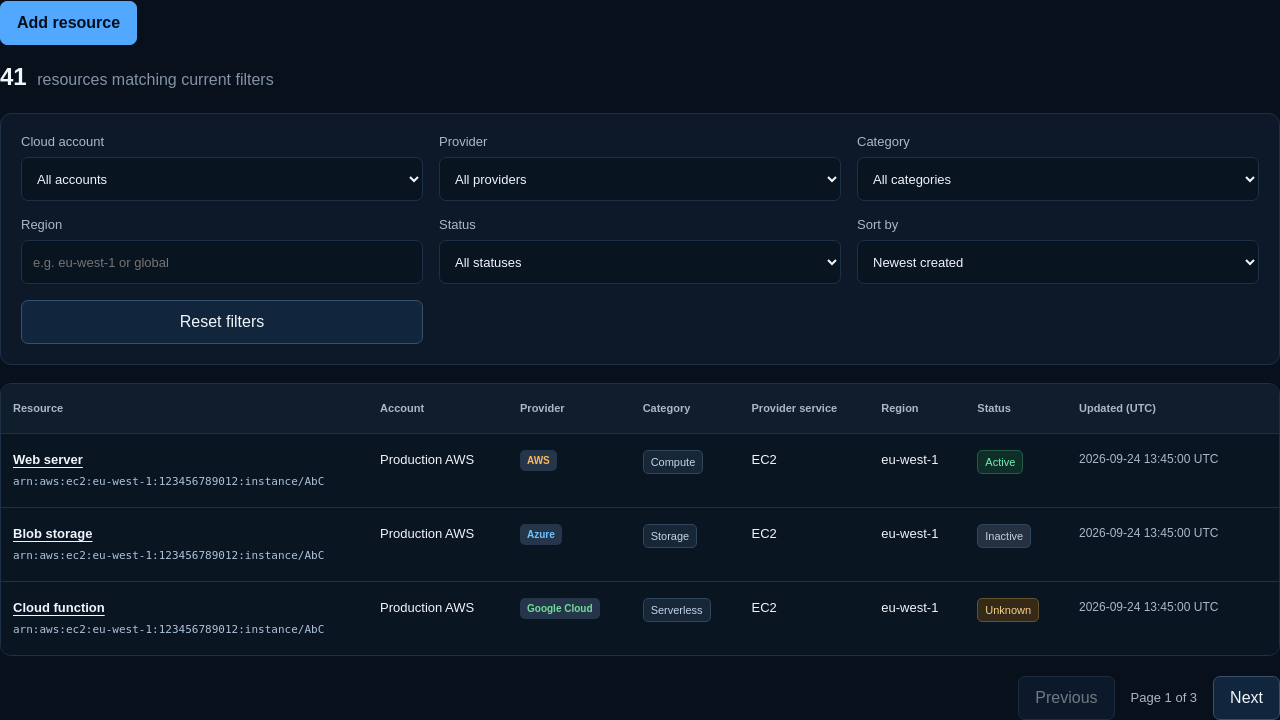
it: Cloud resource inventory › changing Cloud account resets pagination and sends the selected value
(page scrolled)
Expected: the table is shown, [1,384,1279,654]
Expected: the dropdown labelled "Cloud account" is enabled, [21,157,423,201]
Click the button "Next" at [1247, 698], box [1213,676,1279,719]
(page scrolled)
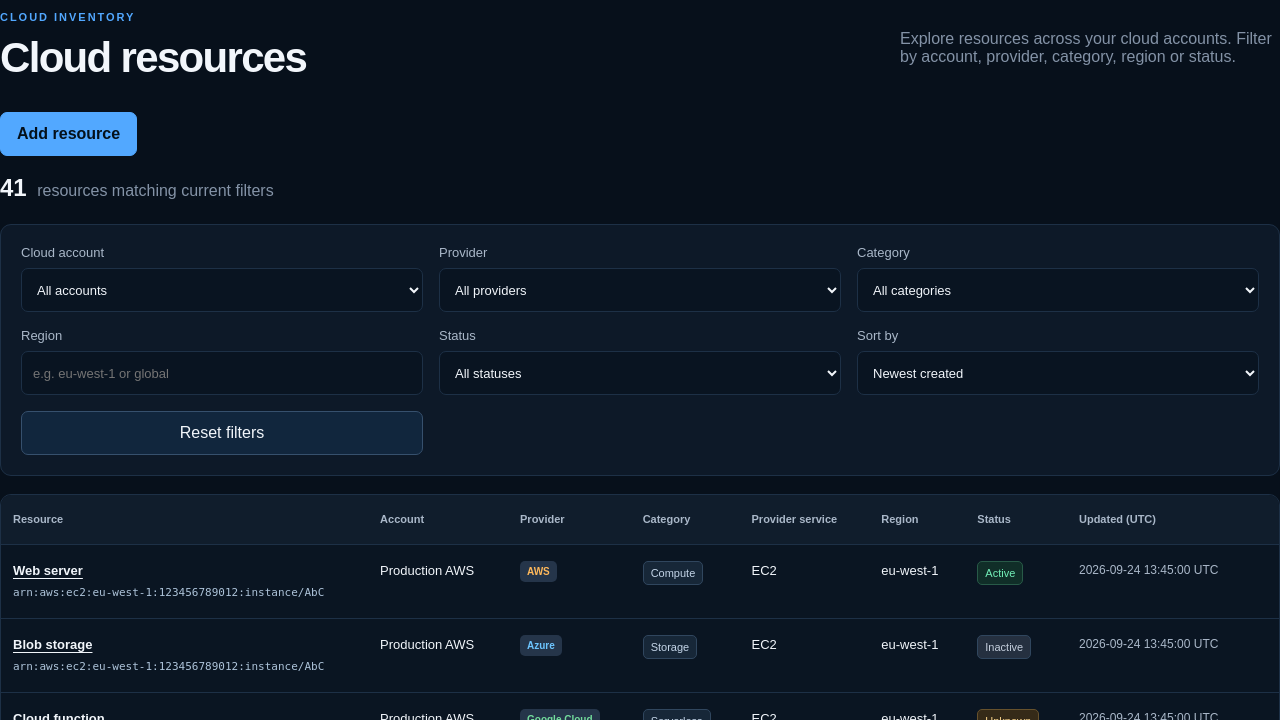
Select "Production AWS" in the dropdown labelled "Cloud account" at [222, 290], box [21,268,423,312]
(page scrolled)
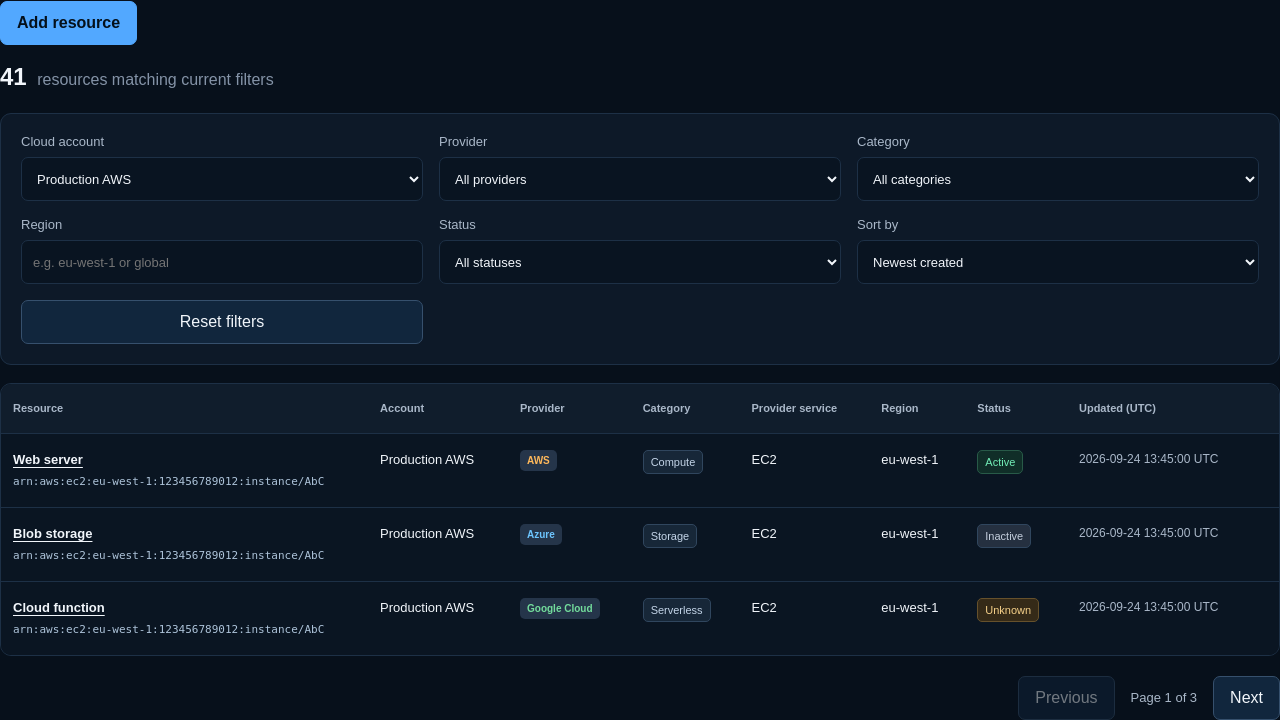
Now the text "Page 1 of 3" is shown, box [1131,690,1197,705]
